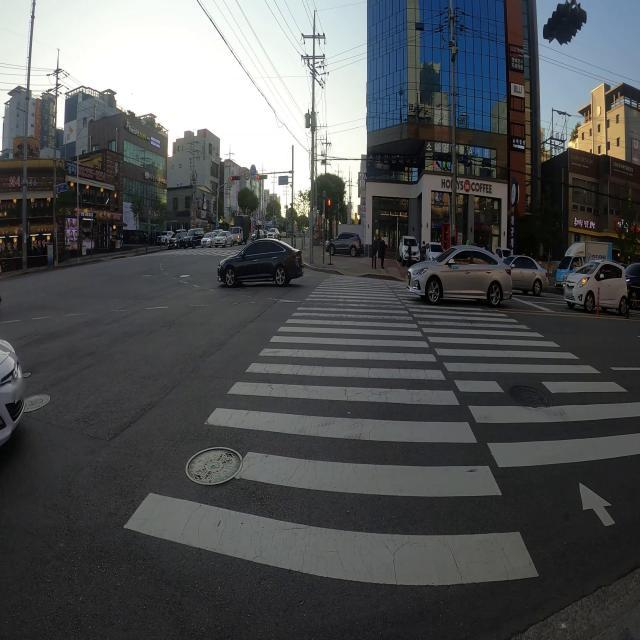crosswalk: (123, 273, 640, 587), (135, 249, 290, 261)
